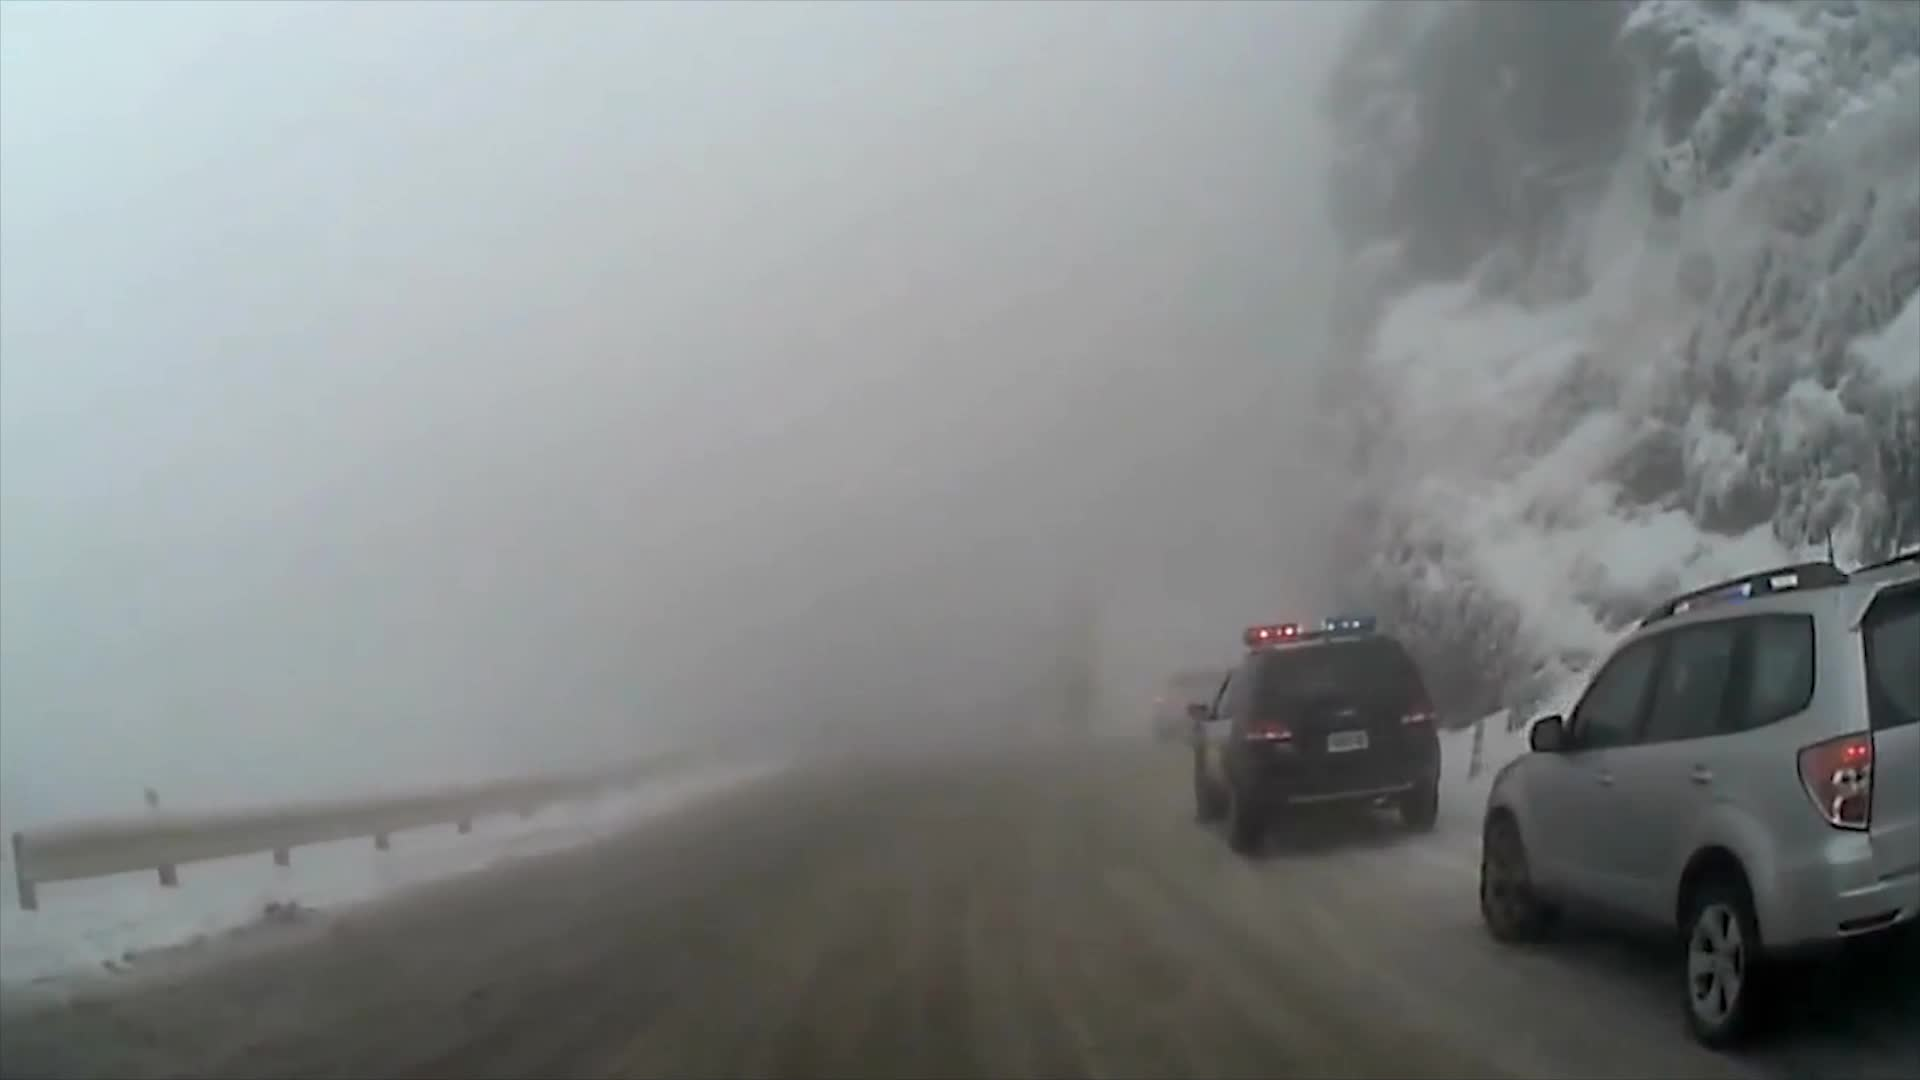vehicle: (1478, 537, 1920, 1048), (1185, 607, 1443, 851)
